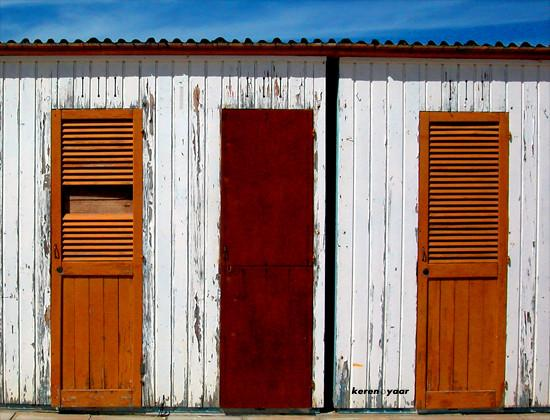door: (415, 110, 510, 413), (51, 107, 144, 410), (222, 109, 314, 409)
